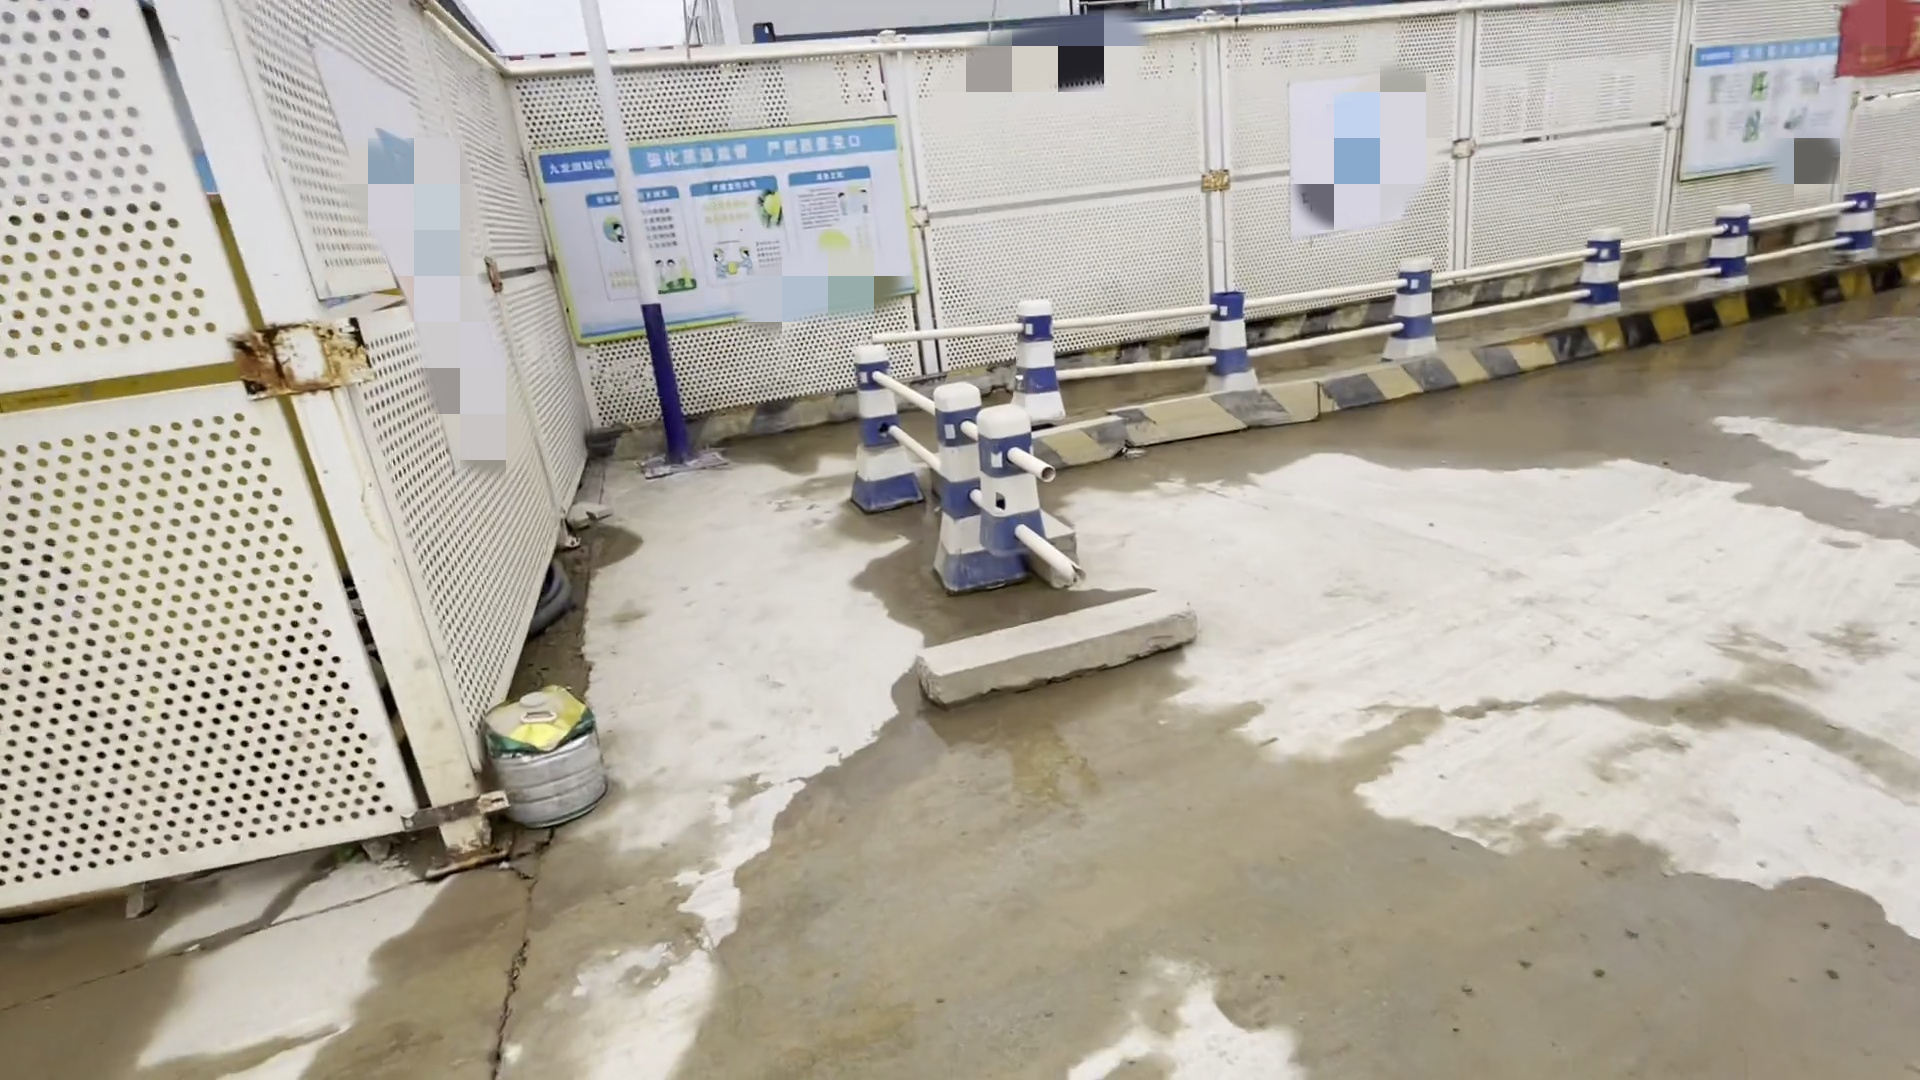slogan: (520, 156, 945, 328), (1698, 42, 1859, 170)
